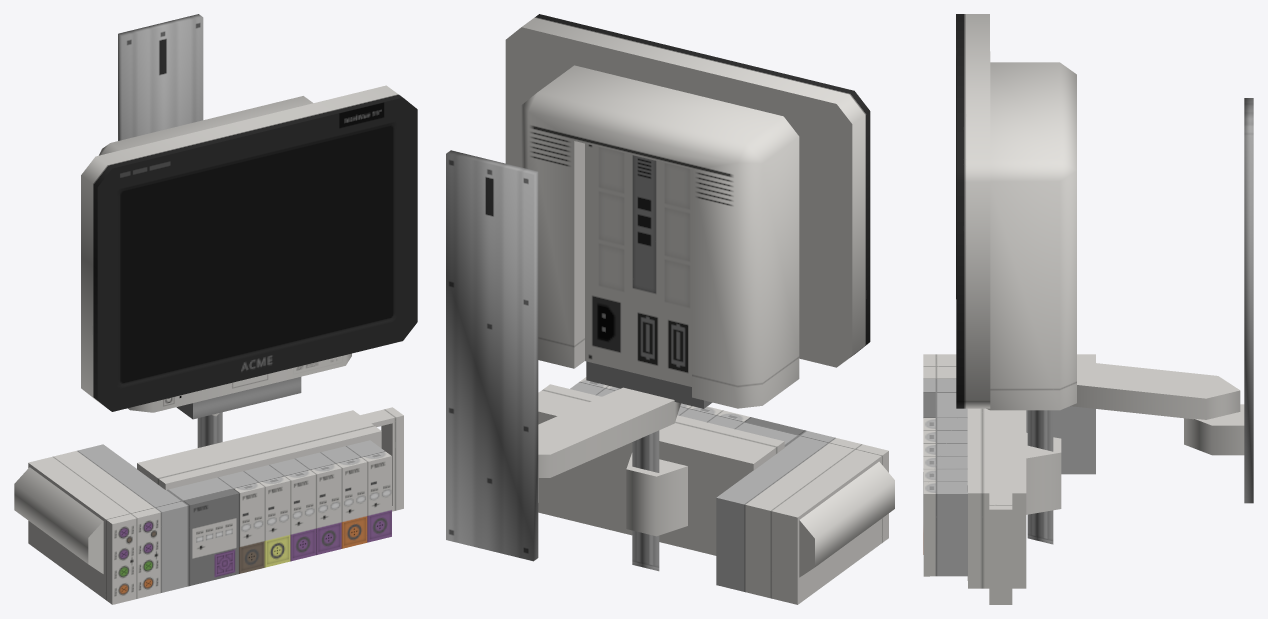
File: BedsideMonitor.fbx
3 views of the same model, side by side, from view 1: azimuth 30°, elevation 25°; view 2: azimuth 150°, elevation 25°; view 3: azimuth 270°, elevation 25° (orthographic). The views are drawn at different scales.
Visible parts, largest first — view 1: BedsideMonitor; view 2: BedsideMonitor; view 3: BedsideMonitor.
Part boxes in pixels (left/top/right/bottom): BedsideMonitor: left=14, top=14, right=417, bottom=604; BedsideMonitor: left=446, top=14, right=894, bottom=604; BedsideMonitor: left=923, top=14, right=1253, bottom=604.
Bounding box in the file's own units: 69.17 × 86.16 × 57.09.
1 material, 1 textured.
